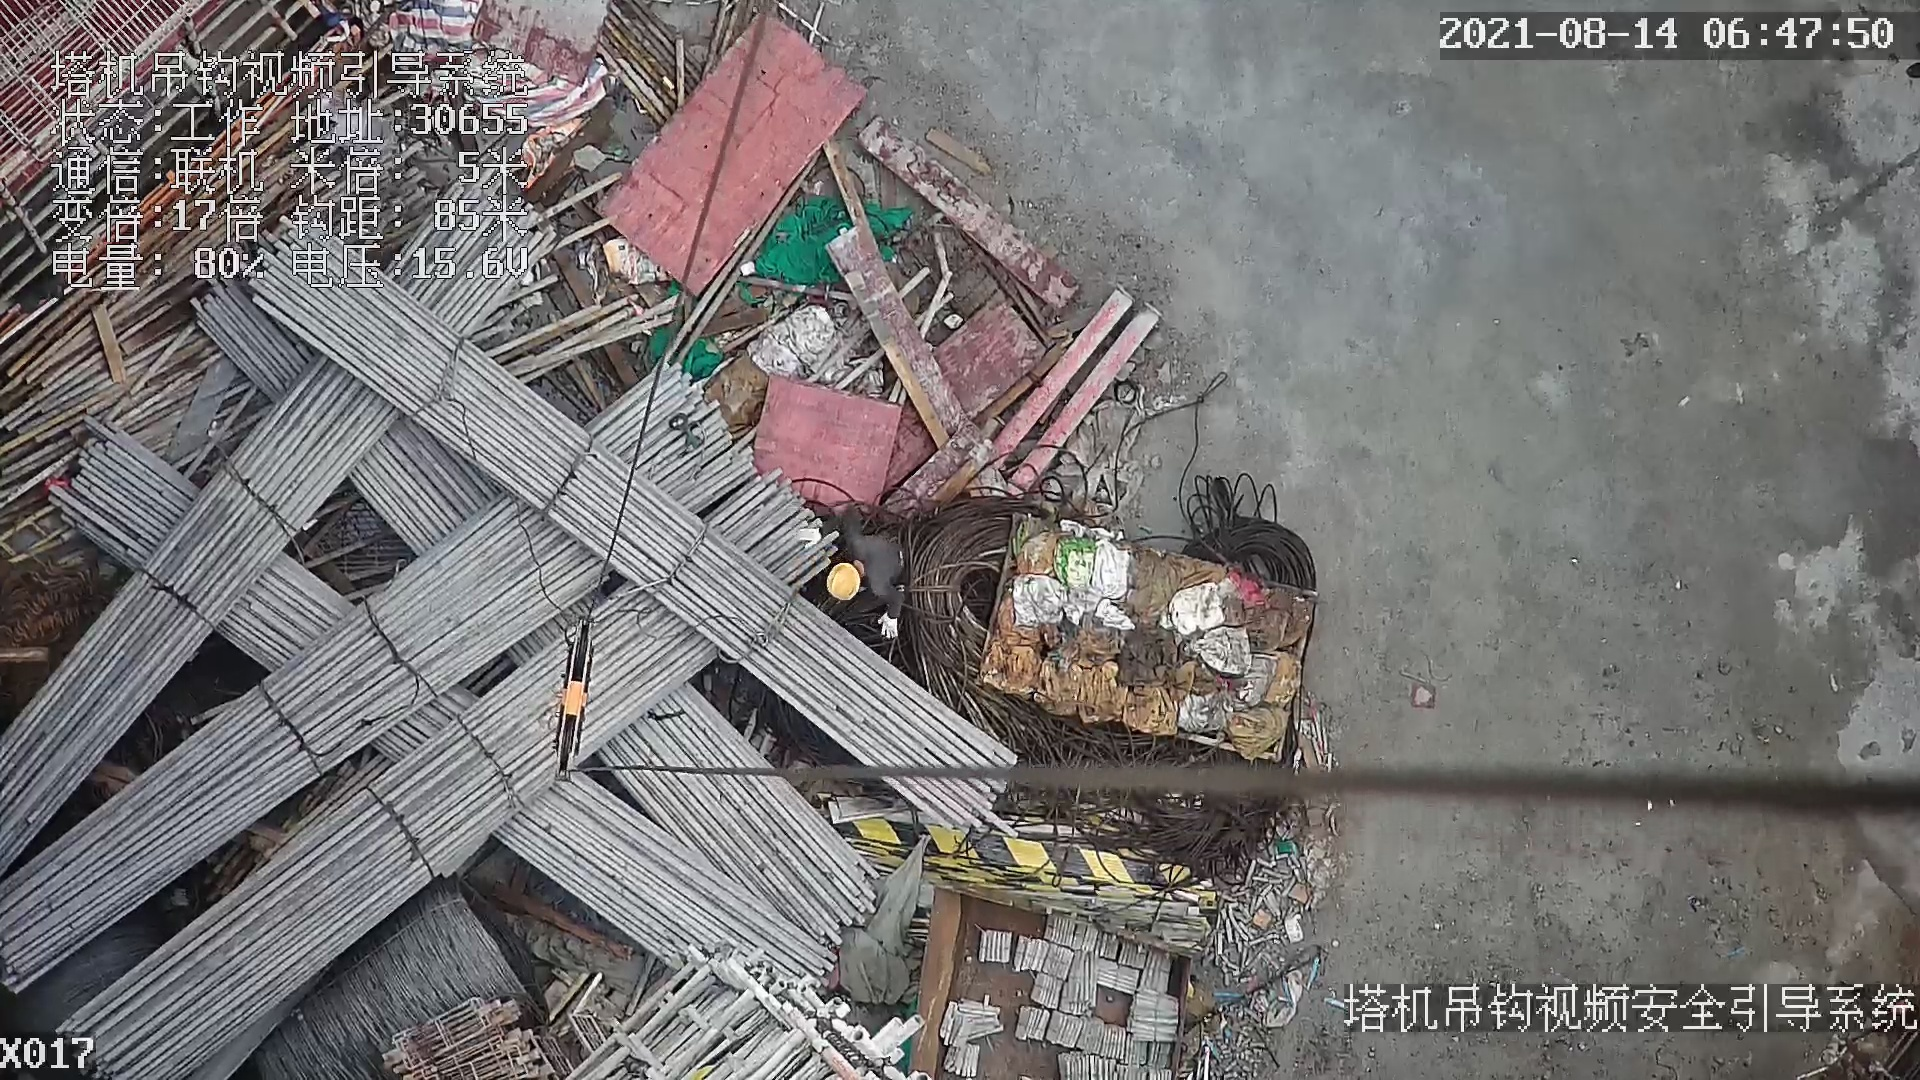board: (592, 8, 869, 304)
helmet: (826, 563, 864, 608)
hook: (544, 619, 597, 786)
person: (796, 501, 922, 647)
